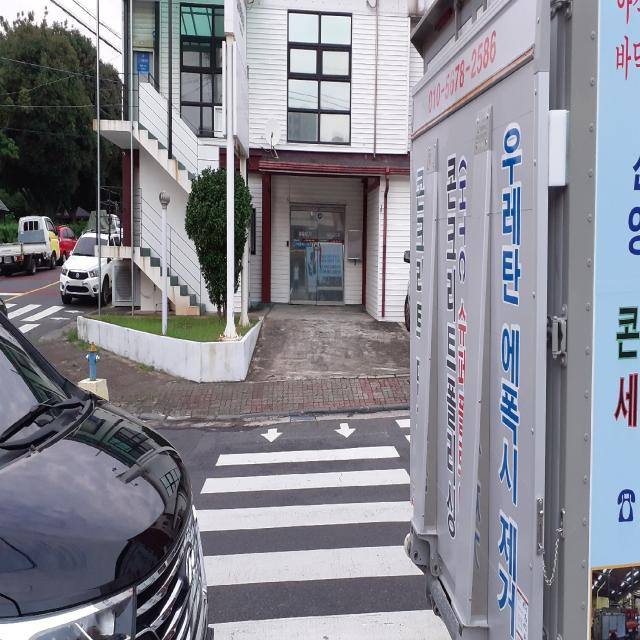횡단보도: (195, 418, 454, 639), (12, 302, 56, 324)
